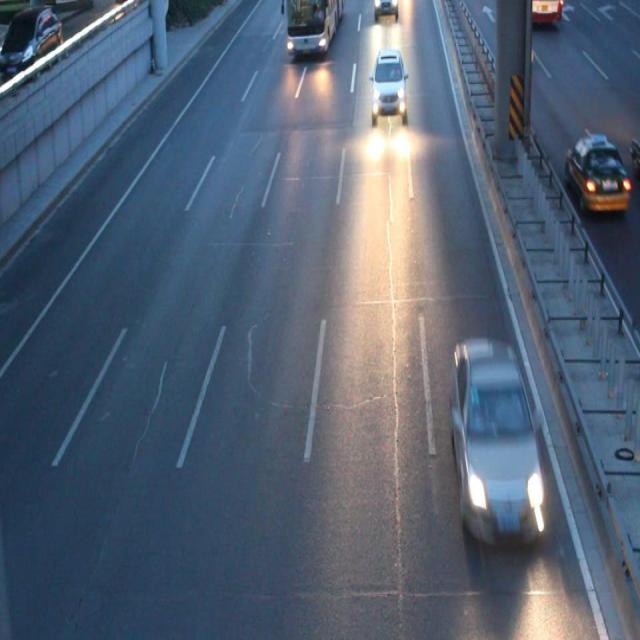car: (563, 134, 628, 210), (371, 48, 405, 113), (501, 29, 532, 66), (629, 132, 640, 178), (374, 1, 397, 22)
truck: (449, 336, 540, 534)
van: (286, 1, 344, 56), (502, 1, 558, 23)
